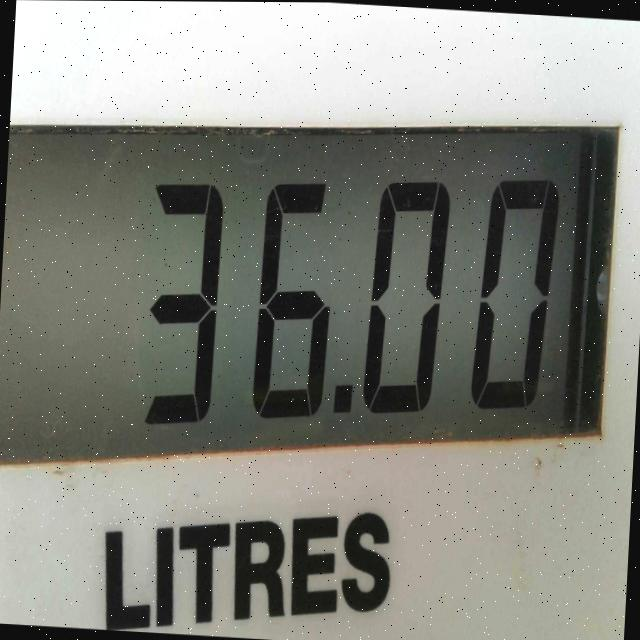.: (326, 377, 360, 428)
0: (364, 187, 450, 410), (470, 185, 554, 413)
3: (144, 184, 226, 422)
6: (253, 182, 334, 416)
